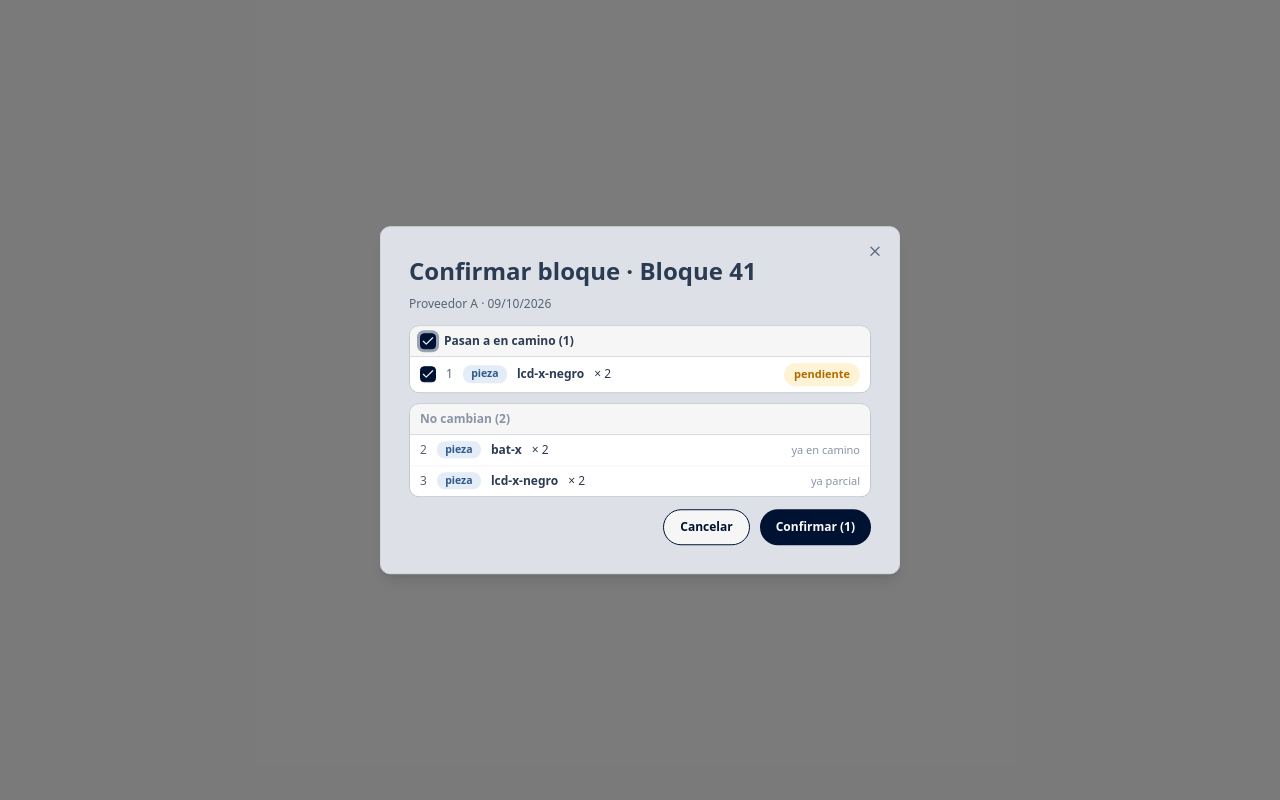
AccionBloqueDialog (spec §6.5) › un 422 se muestra dentro del dialogo, no lo cierra y deja reintentar
The width and height of the screenshot is (1280, 800).
What coordinates should you click on to do the following:
click the button "Confirmar (1)"
I would click on:
 (815, 527)
Its box is [760,509,871,545].
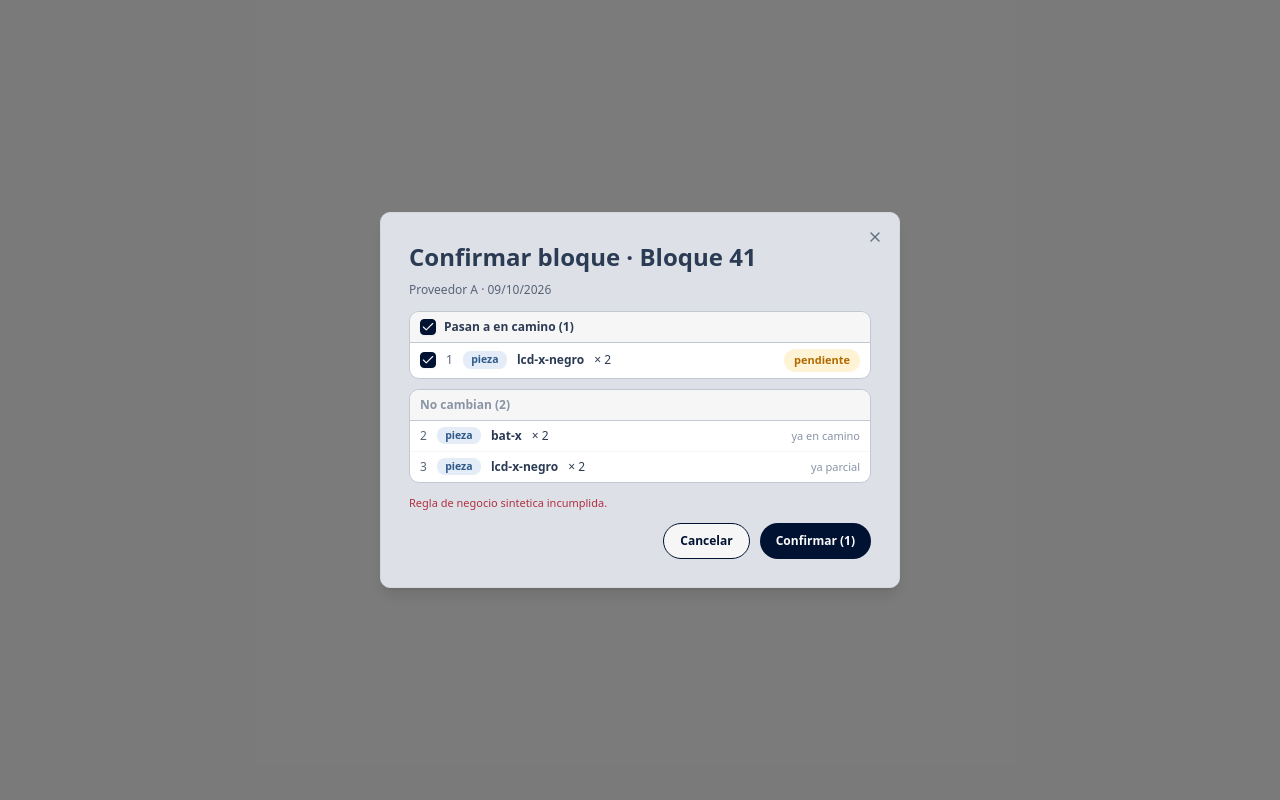
Expected: the button "Confirmar (1)" is enabled, [760,523,871,559]
Expected: the message reads "Regla de negocio sintetica incumplida.", [409,494,607,510]
